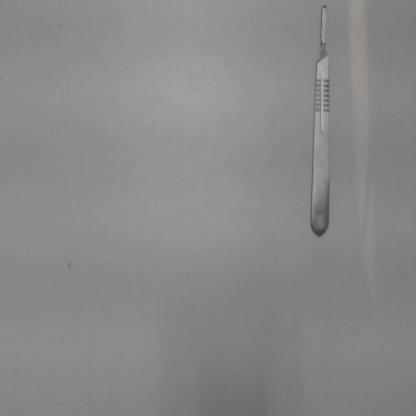No.4 BP Handle: (305, 3, 337, 240)
